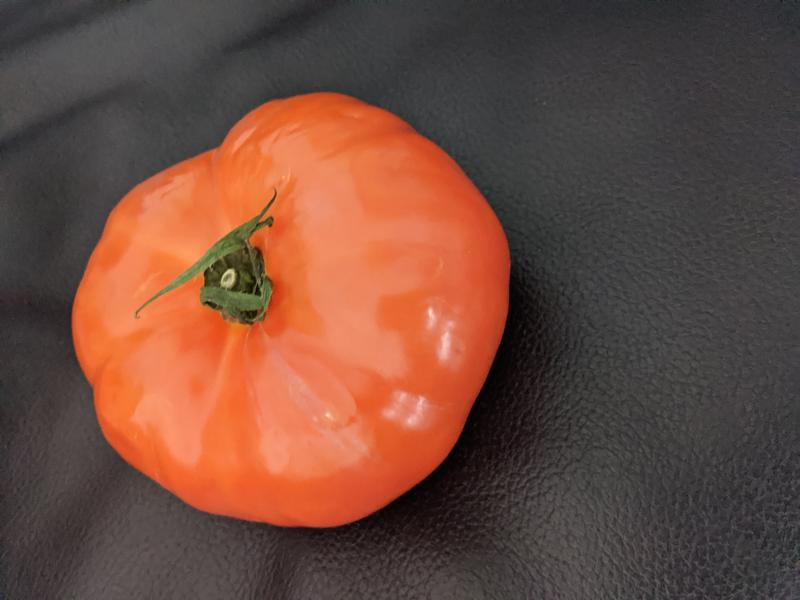tomato: (70, 91, 513, 531)
